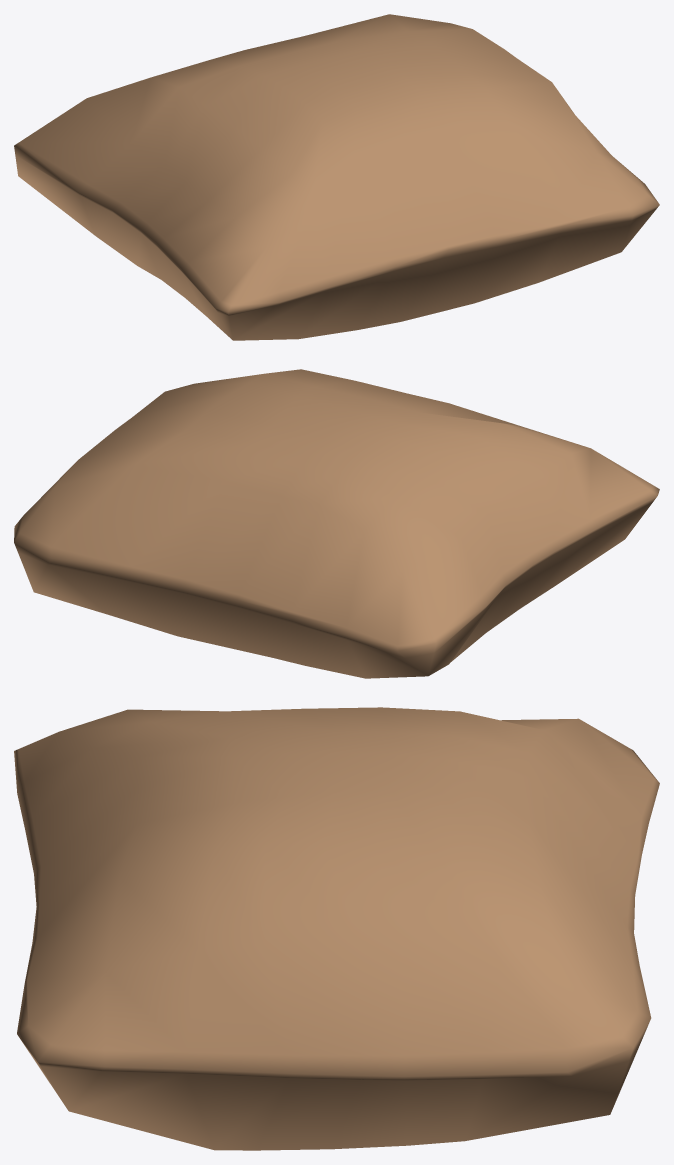
The model's file is SM_Sandbag.fbx.
3 views of the same model, one above another, from view 1: azimuth 30°, elevation 25°; view 2: azimuth 150°, elevation 25°; view 3: azimuth 270°, elevation 25° (orthographic). The views are drawn at different scales.
Parts seen in each view (by area): view 1: Sandbag.001; view 2: Sandbag.001; view 3: Sandbag.001.
Part boxes in pixels (x1,y1,x2,y2): Sandbag.001: (14,14,659,340); Sandbag.001: (14,369,659,678); Sandbag.001: (14,707,659,1150).
Size of the model in its own units: 211 by 248 by 95.8.
